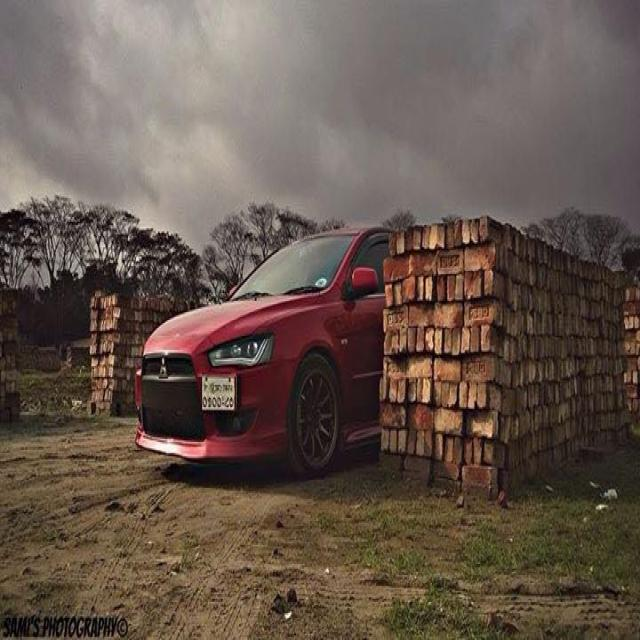numberplate: (202, 372, 236, 412)
